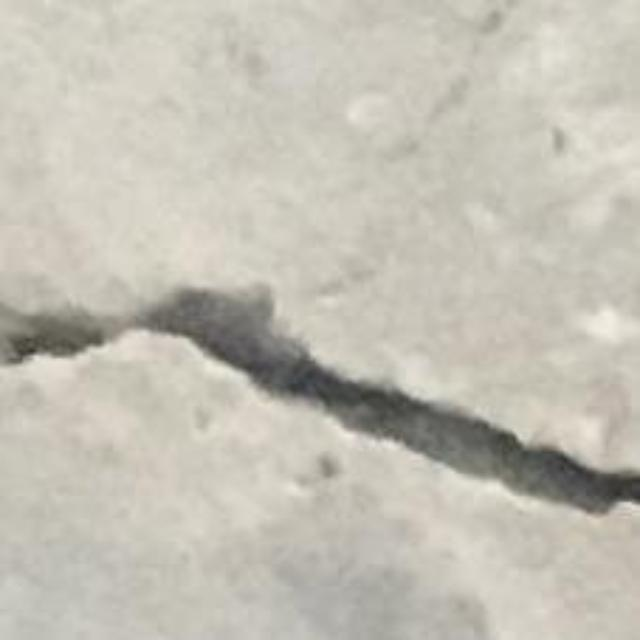crack: (0, 288, 639, 513)
